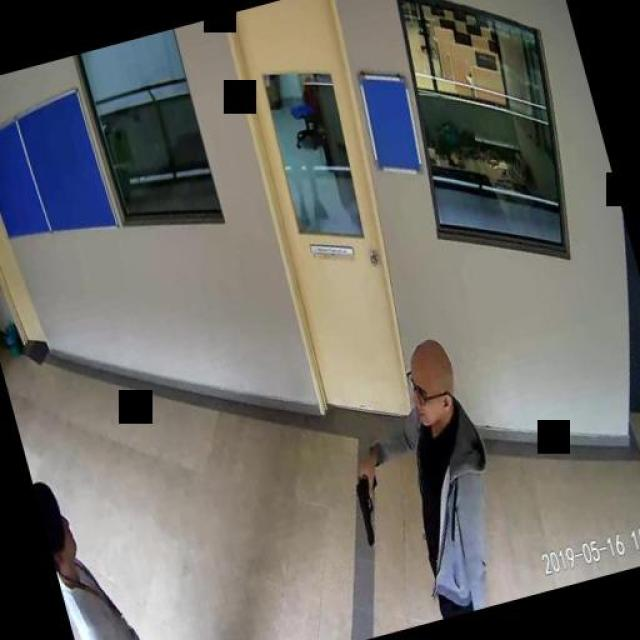gun: (349, 464, 390, 545)
